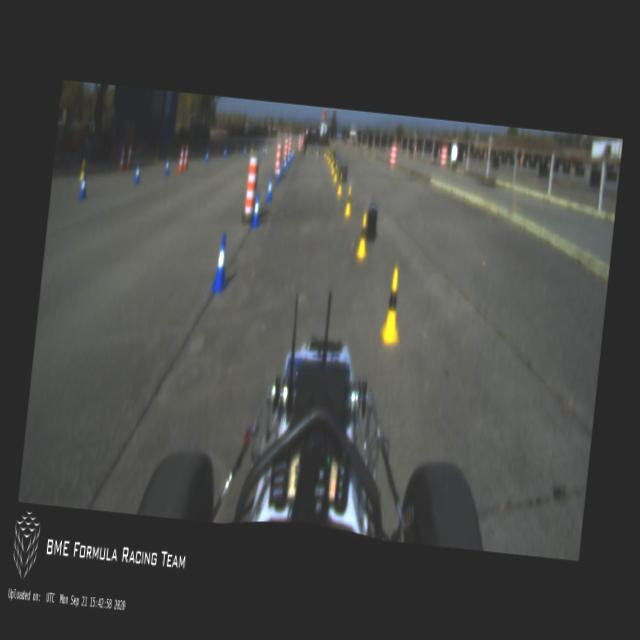blue_cone: (210, 232, 232, 292), (250, 192, 262, 228), (78, 172, 88, 198), (266, 176, 274, 203), (133, 163, 141, 185), (163, 157, 170, 176), (204, 148, 209, 164), (276, 165, 280, 182), (282, 158, 286, 174), (222, 146, 226, 158), (242, 144, 246, 156), (261, 144, 265, 156), (286, 154, 290, 166), (291, 150, 294, 158), (290, 152, 292, 160)
large_orange_cone: (118, 144, 126, 172), (124, 145, 132, 170), (177, 144, 184, 172), (182, 144, 188, 170)
yellow_cone: (379, 265, 405, 342), (354, 212, 370, 258), (344, 185, 354, 217), (336, 173, 344, 196), (78, 160, 84, 180), (333, 166, 338, 182), (330, 158, 334, 174), (264, 142, 268, 153), (328, 152, 331, 165), (326, 148, 329, 161), (330, 156, 333, 168), (315, 144, 318, 156), (305, 144, 308, 154), (234, 142, 237, 152), (324, 146, 326, 158), (250, 142, 252, 152)
